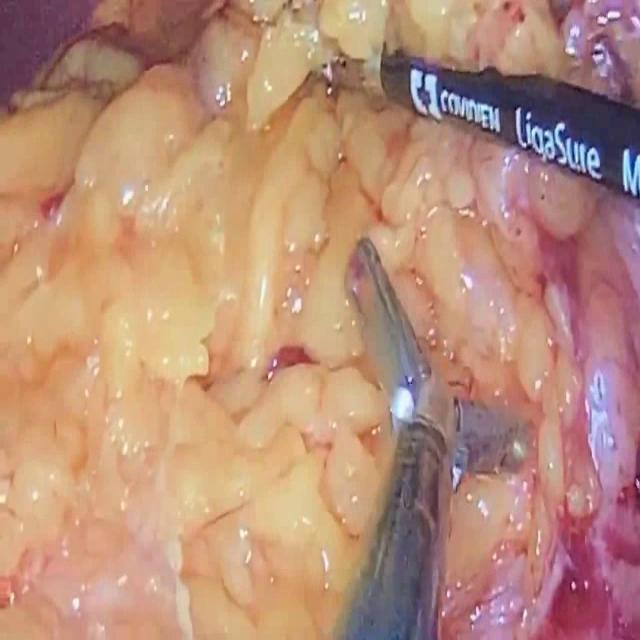surgical-tool: (341, 236, 530, 639), (379, 52, 640, 201)
